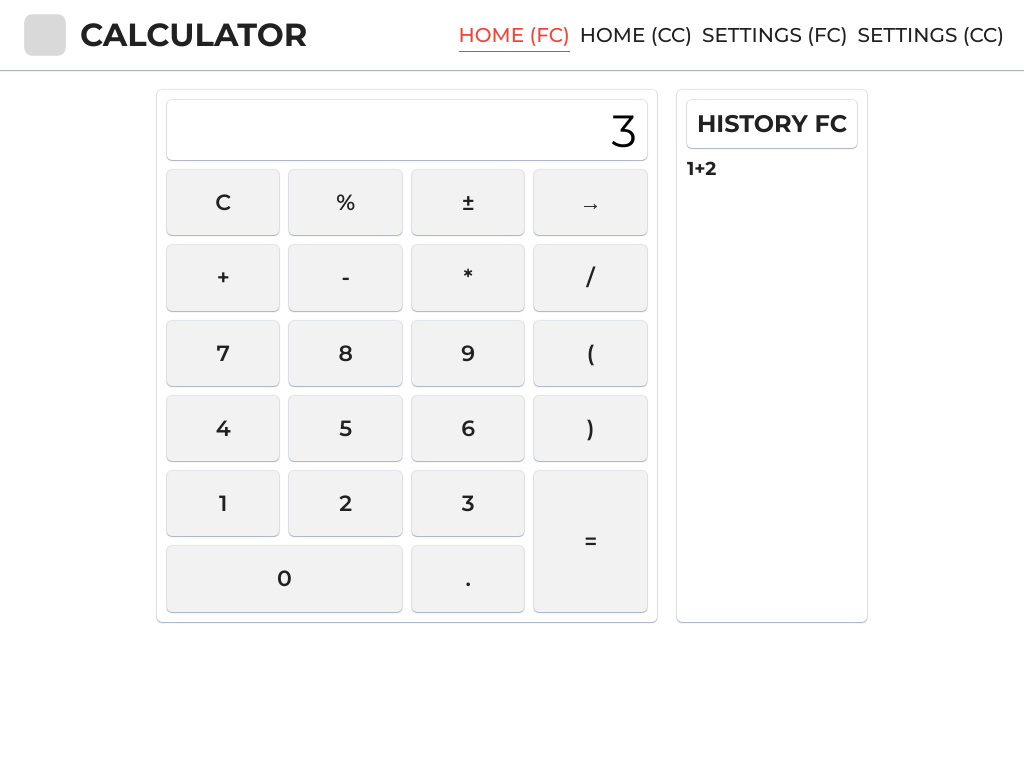
Scenario: Calculator App › Should clear input value
Expected: the field holds "3", [167,100,647,160]
Click the button "C".
click(224, 203)  # box [167,170,280,235]
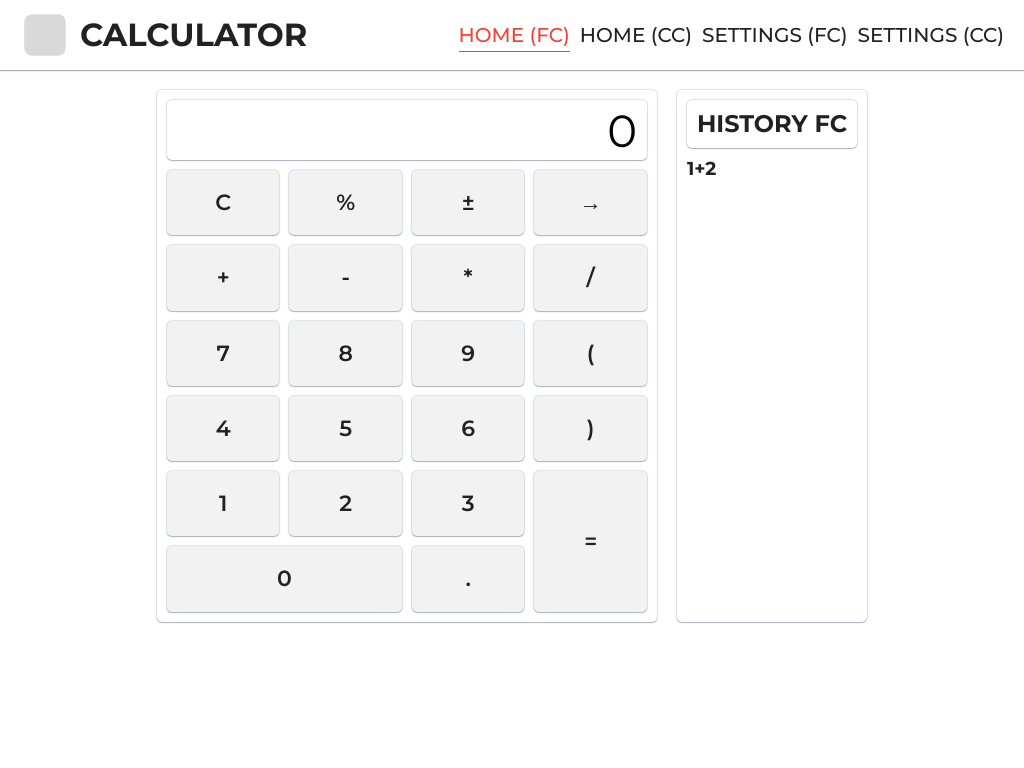
Expected: the field holds "0", [167,100,647,160]
